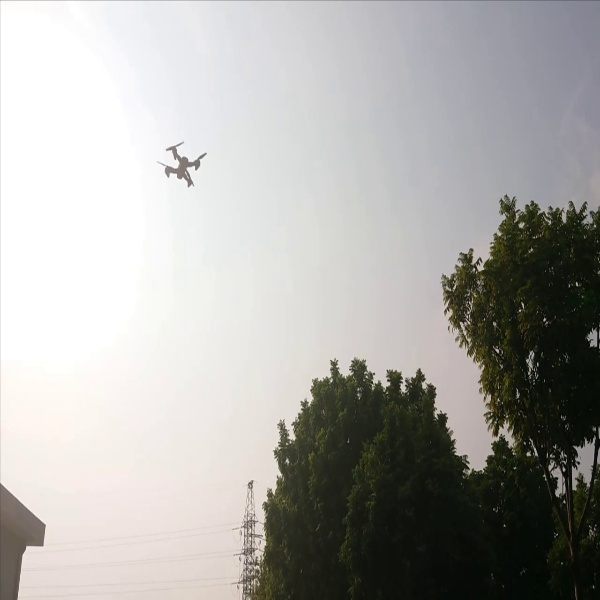drone: (156, 131, 218, 190)
